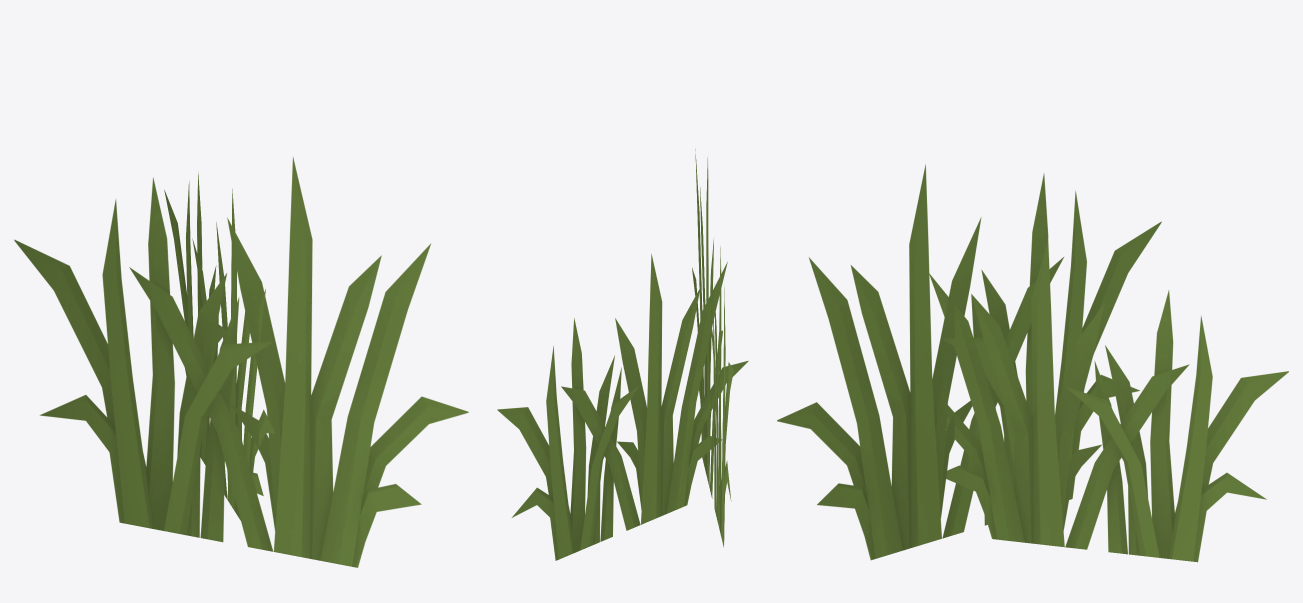
File: samurai_SM_Env_Grass_Tall_Clump_01.gltf
The picture shows the model from 3 angles, left to right: view 1: azimuth 30°, elevation 25°; view 2: azimuth 150°, elevation 25°; view 3: azimuth 270°, elevation 25°; orthographic projection. The views are drawn at different scales.
Parts seen in each view (by area): view 1: SM_Env_Grass_Tall_Clump_01_LOD0; view 2: SM_Env_Grass_Tall_Clump_01_LOD0; view 3: SM_Env_Grass_Tall_Clump_01_LOD0.
Boxes of the visible parts, bbox=[...] form: SM_Env_Grass_Tall_Clump_01_LOD0: bbox=[14, 157, 468, 567]; SM_Env_Grass_Tall_Clump_01_LOD0: bbox=[497, 149, 748, 560]; SM_Env_Grass_Tall_Clump_01_LOD0: bbox=[777, 164, 1288, 562].
Size of what is drawn, in the model's own units: 0.5847 by 1.07 by 1.08.
2 materials, 2 textured.
